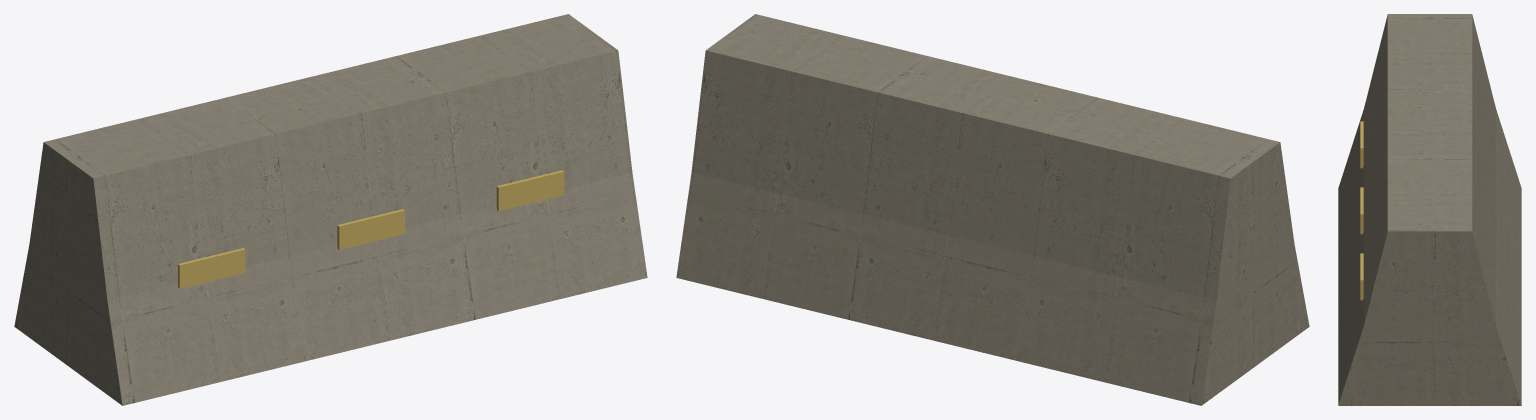
Rendered from concrete_barrier.glb.
3 renders of one model, left to right at view 1: azimuth 30°, elevation 25°; view 2: azimuth 150°, elevation 25°; view 3: azimuth 270°, elevation 25°, orthographic. The views are drawn at different scales.
Parts seen in each view (by area): view 1: Concrete_jersey_barrier, Weathered_reflector_0.85, Weathered_reflector_0, Weathered_reflector_-0.85; view 2: Concrete_jersey_barrier; view 3: Concrete_jersey_barrier, Weathered_reflector_-0.85, Weathered_reflector_0, Weathered_reflector_0.85.
Boxes of the visible parts, x1,y1,x2,y2 form: Concrete_jersey_barrier: [14, 14, 647, 405]; Weathered_reflector_0.85: [496, 170, 564, 210]; Weathered_reflector_0: [337, 209, 404, 249]; Weathered_reflector_-0.85: [178, 248, 245, 288]; Concrete_jersey_barrier: [676, 14, 1309, 405]; Concrete_jersey_barrier: [1338, 14, 1521, 405]; Weathered_reflector_-0.85: [1360, 121, 1363, 168]; Weathered_reflector_0: [1360, 187, 1363, 234]; Weathered_reflector_0.85: [1360, 253, 1363, 300].
Size of the model in its own units: 2.8 by 1.05 by 1.
2 materials, 1 textured.
